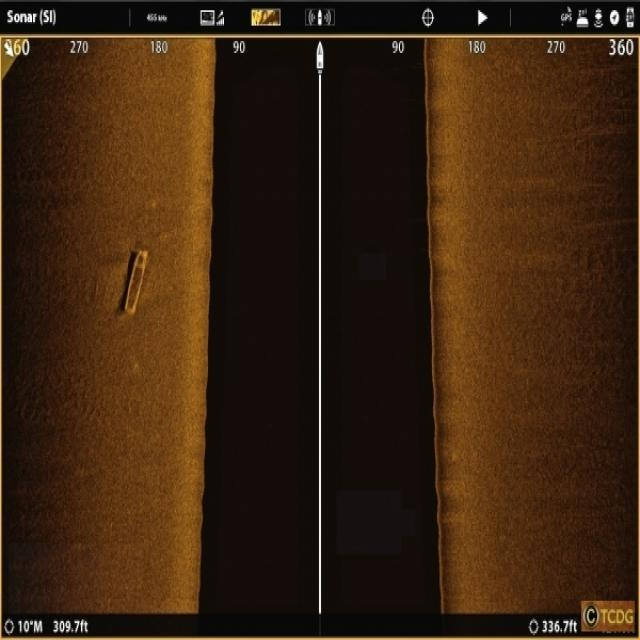shipwreck: (118, 242, 152, 314)
